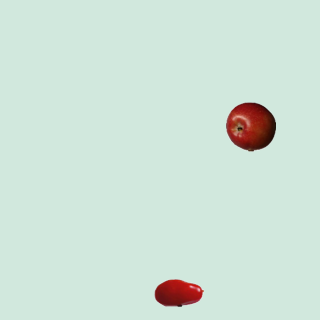Apple Braeburn: (225, 101, 275, 151)
Tomato 2: (153, 267, 203, 317)
